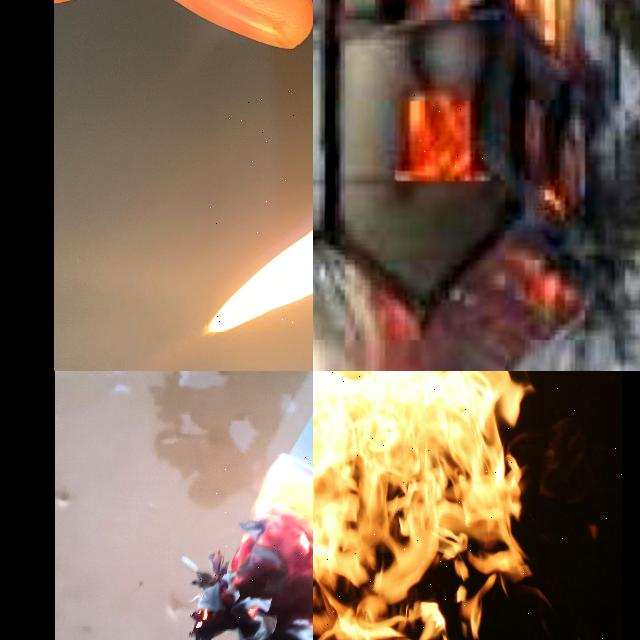fire: (313, 371, 525, 640), (191, 457, 313, 640), (207, 227, 313, 332), (512, 89, 588, 225), (398, 87, 492, 183), (508, 0, 575, 52), (379, 0, 479, 22)
